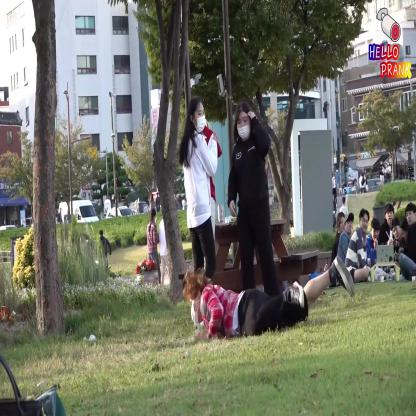Fall_Down: (184, 256, 355, 342)
